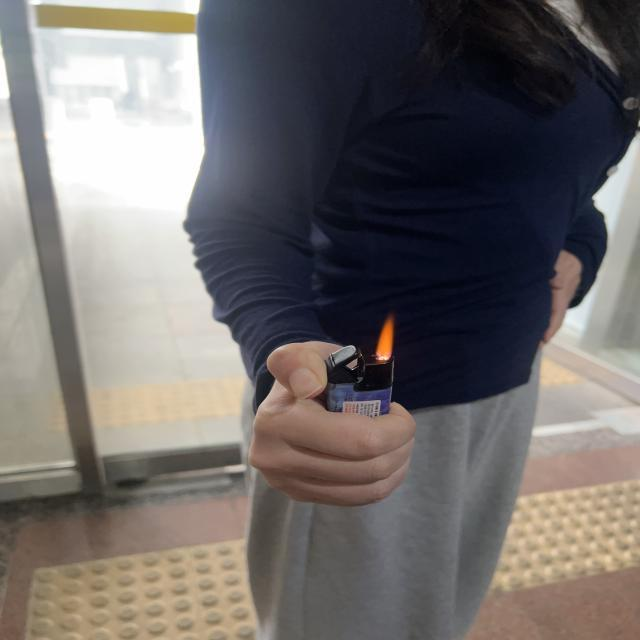fire: (372, 319, 394, 356)
